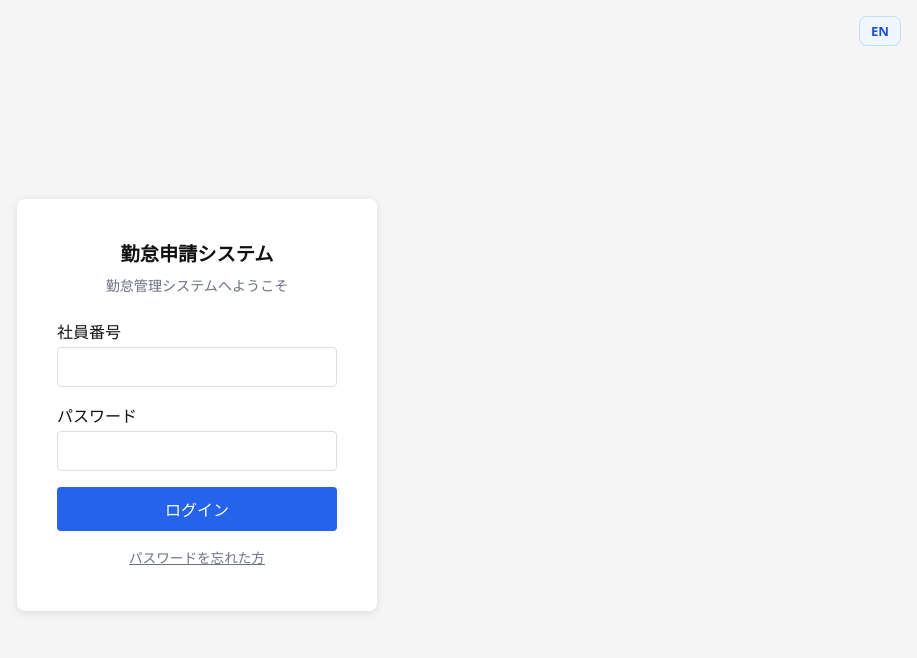
Test: LoginPage › shows error message on failed login
The width and height of the screenshot is (917, 658).
Type "BAD" into the field labelled "社員番号" at {"x": 197, "y": 367}, box [57,347,337,387]
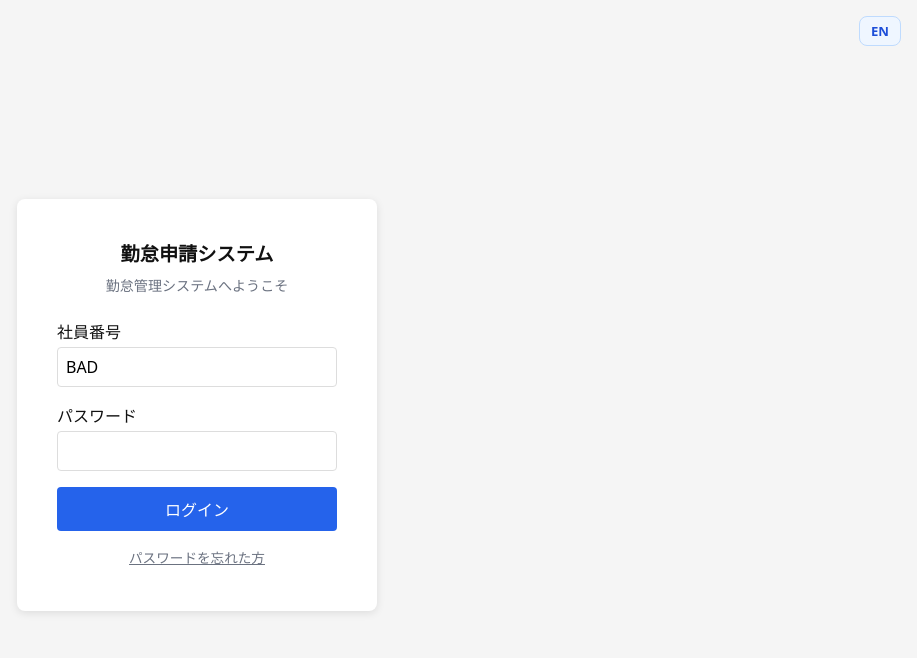
Type "bad" into the password field labelled "パスワード" at {"x": 197, "y": 451}, box [57,431,337,471]
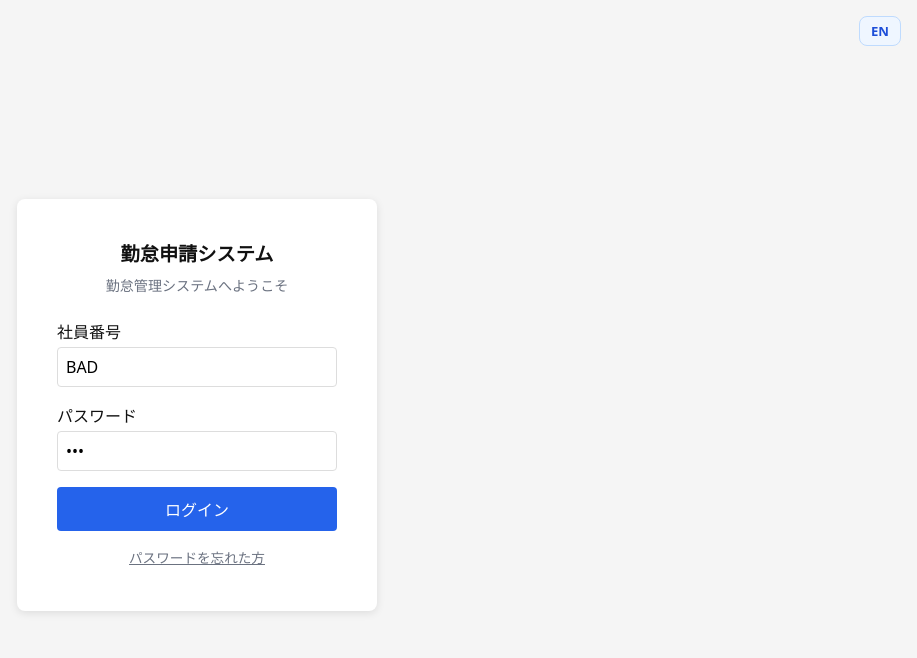
Click the button "ログイン" at {"x": 197, "y": 509}, box [57,487,337,531]
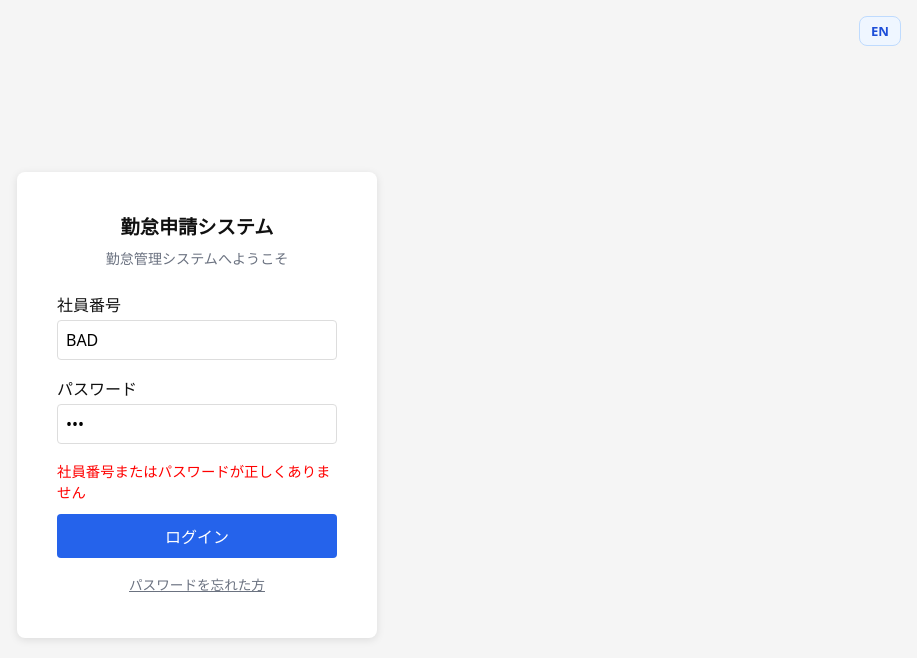
Result: the message "社員番号またはパスワードが正しくありません" is shown at [57,460,337,502]
